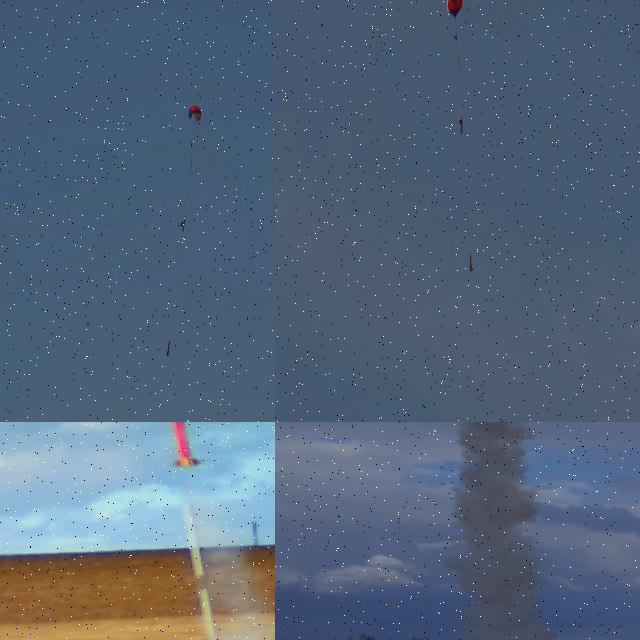Rocket: (169, 422, 203, 468), (167, 339, 170, 358), (470, 254, 472, 272)
